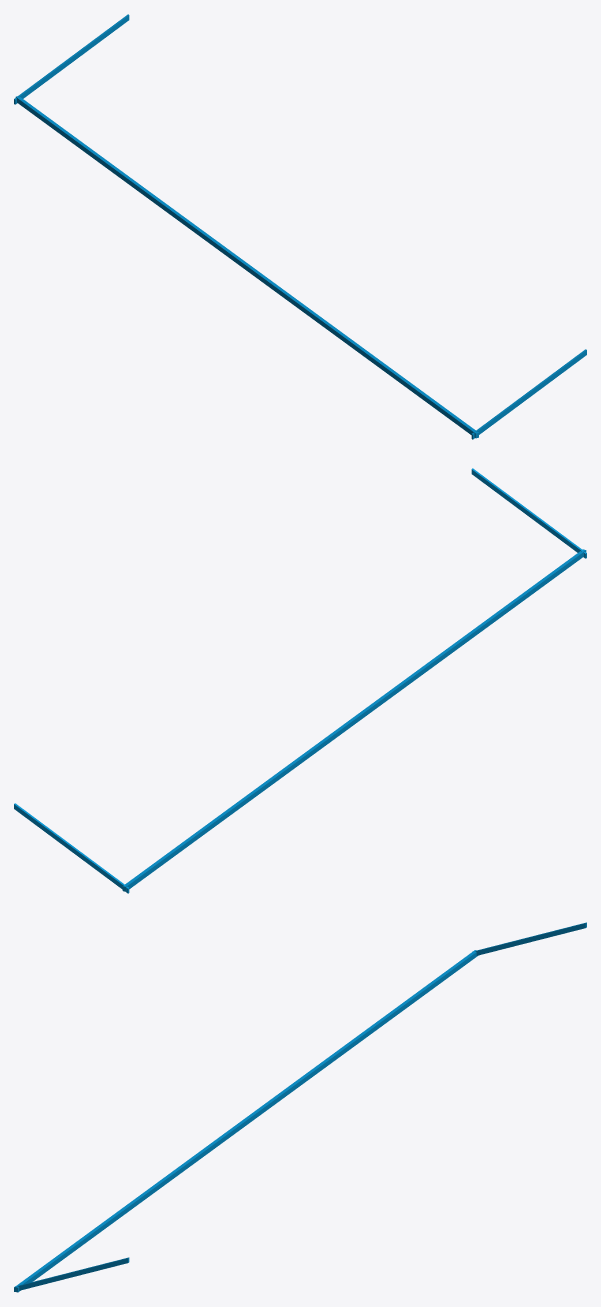
File: Storefront_Awnings_01B.fbx
3 renders of one model, top to bottom at view 1: azimuth 30°, elevation 25°; view 2: azimuth 150°, elevation 25°; view 3: azimuth 330°, elevation 25°, orthographic.
Visible parts, largest first — view 1: Storefront_Awnings_01B; view 2: Storefront_Awnings_01B; view 3: Storefront_Awnings_01B.
Part boxes in pixels (<box>): Storefront_Awnings_01B: <box>14,14,586,439</box>; Storefront_Awnings_01B: <box>14,468,586,893</box>; Storefront_Awnings_01B: <box>14,922,586,1292</box>.
Bounding box in the file's own units: 123 × 63.61 × 859.
